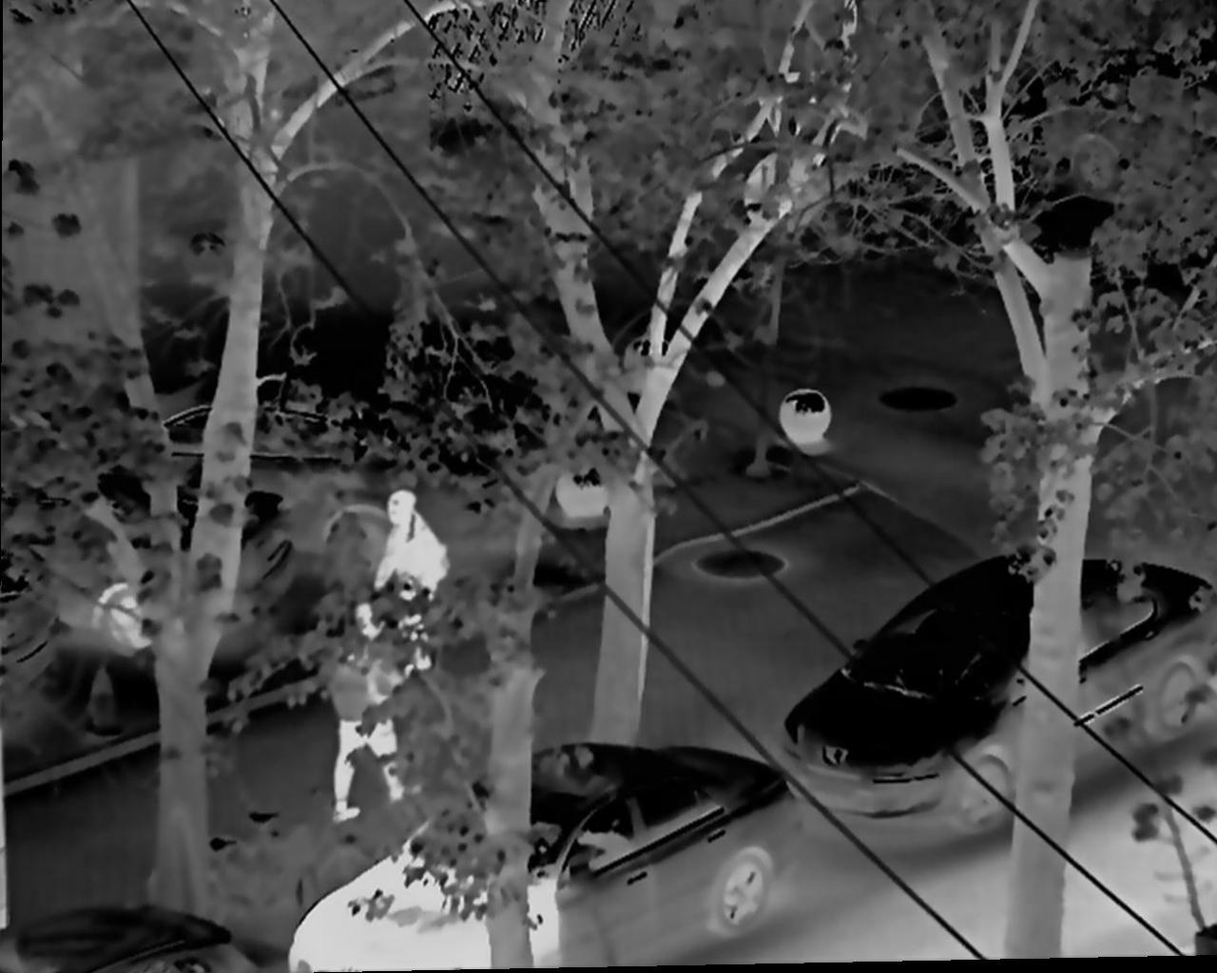person: (331, 601, 409, 819), (368, 489, 452, 682)
